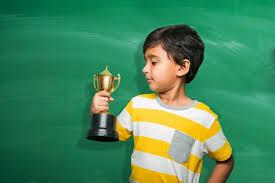Human: (95, 24, 237, 183)
